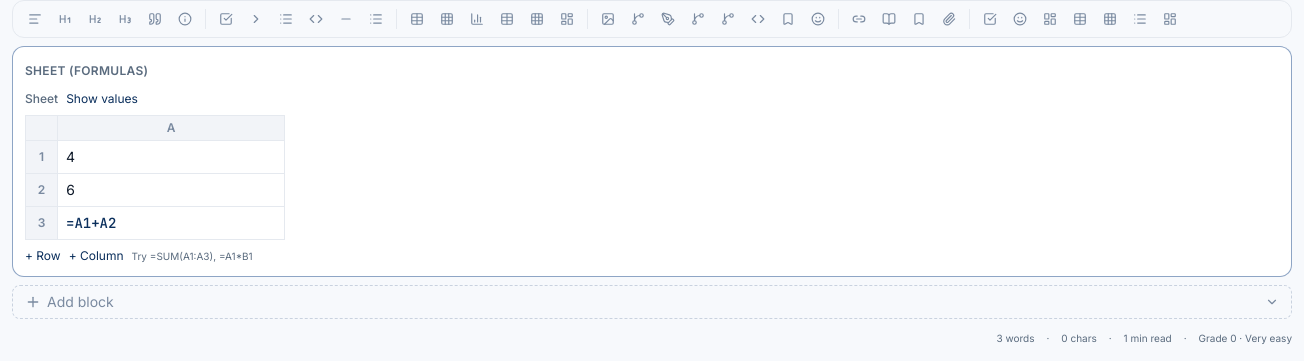
BlockEditor — Know Studio blocks › evaluates sheet formulas in the Values view
Click the button "Show values" at (102, 99), box [66,91,138,107]
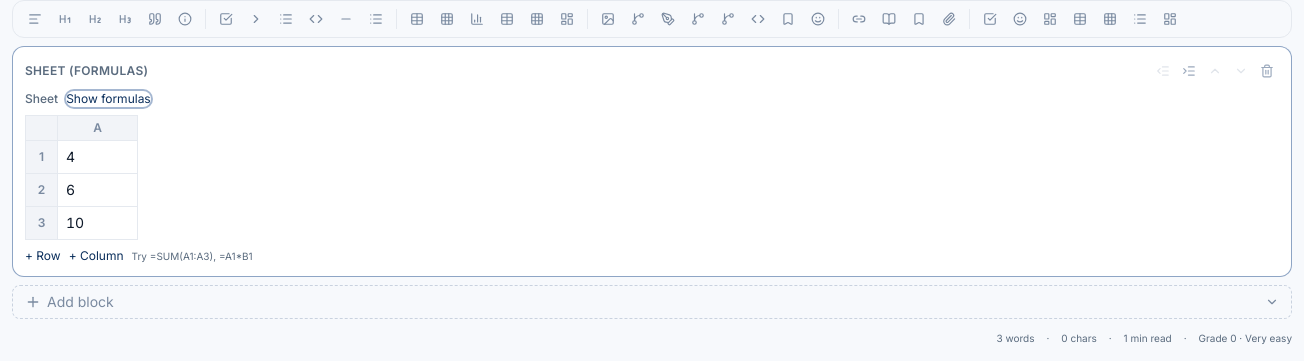
Expected: the text "10" is shown, [66,214,84,231]
